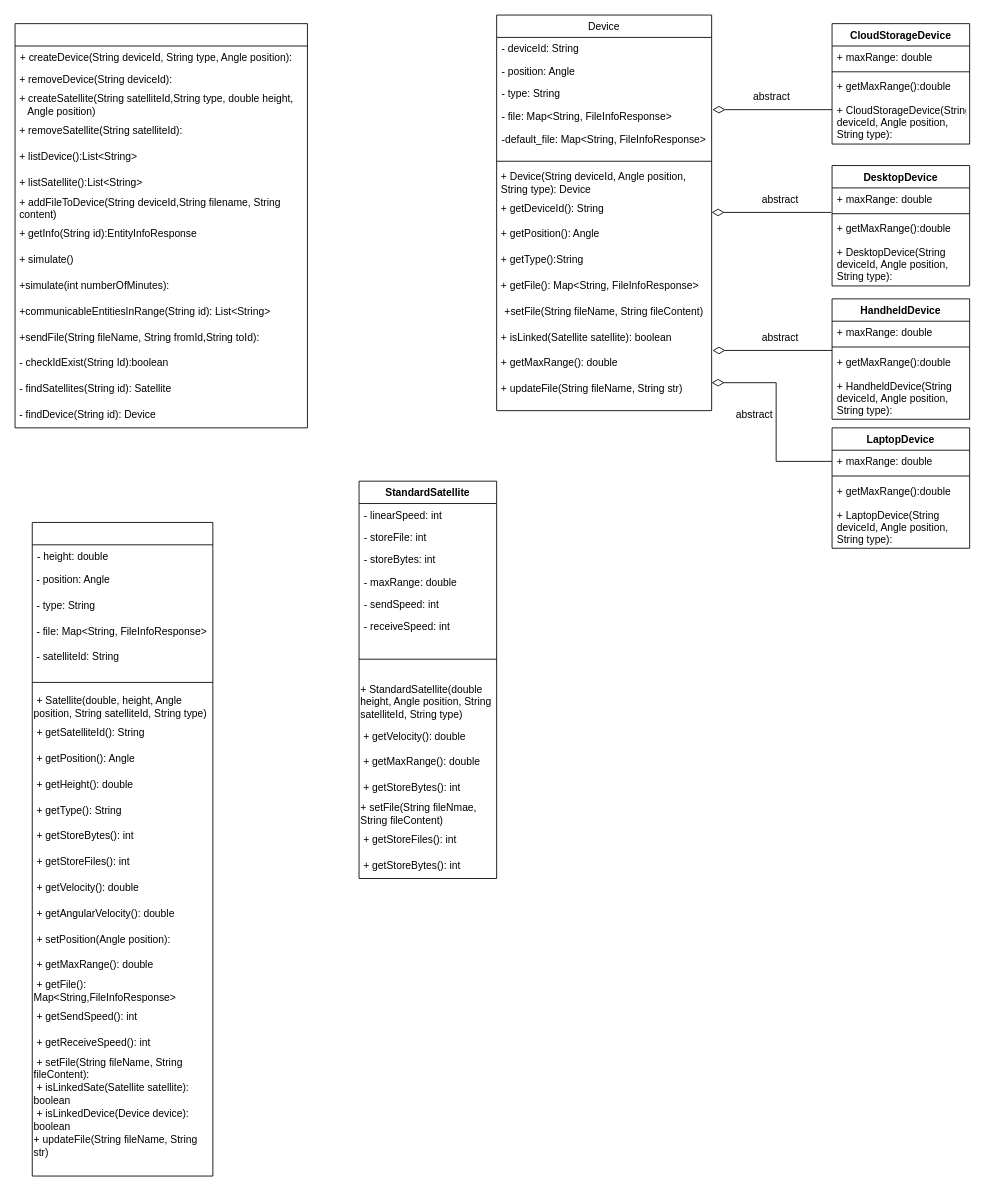
This 985x1194 diagram has some shape labels left out. Each missing label, with the box of its shape:
BlackoutController: (14, 23, 307, 428)
Classname: (31, 522, 213, 1176)
